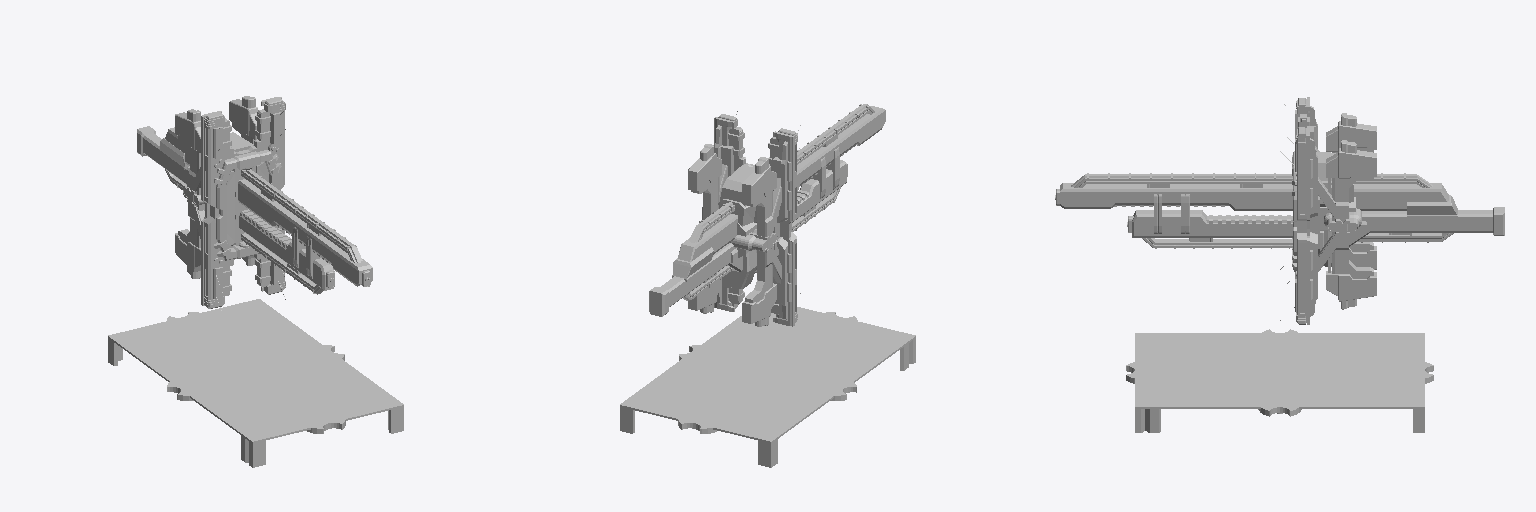
3 views of the same model, side by side, from view 1: azimuth 30°, elevation 25°; view 2: azimuth 150°, elevation 25°; view 3: azimuth 270°, elevation 25° (orthographic).
Parts seen in each view (by area): view 1: PLANETMODULE_UNSCREACHSMAC, Base_-_Large_-_FIXED_pSphere3_0.012; view 2: PLANETMODULE_UNSCREACHSMAC, Base_-_Large_-_FIXED_pSphere3_0.012; view 3: PLANETMODULE_UNSCREACHSMAC, Base_-_Large_-_FIXED_pSphere3_0.012.
Part boxes in pixels (x1,y1,x2,y2): PLANETMODULE_UNSCREACHSMAC: (137,96,372,310); Base_-_Large_-_FIXED_pSphere3_0.012: (108,299,403,467); PLANETMODULE_UNSCREACHSMAC: (649,104,885,326); Base_-_Large_-_FIXED_pSphere3_0.012: (620,307,915,467); PLANETMODULE_UNSCREACHSMAC: (1055,97,1504,324); Base_-_Large_-_FIXED_pSphere3_0.012: (1126,329,1433,432).
Bounding box in the file's own units: 3.43 × 5.5 × 7.98.